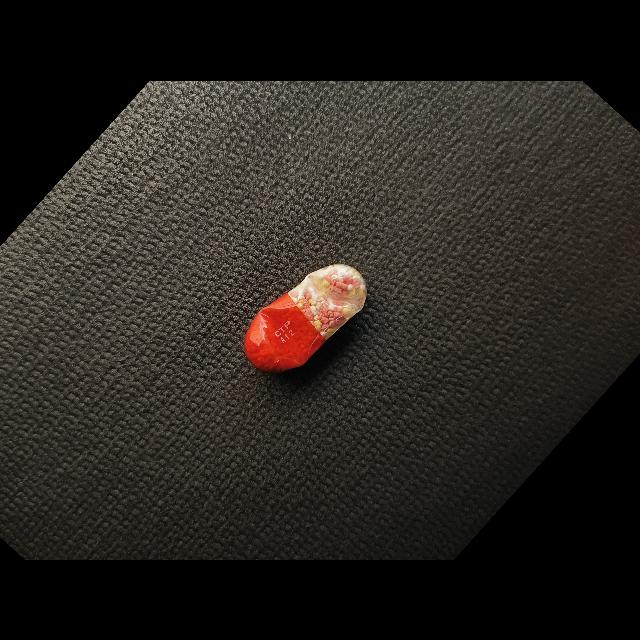Defective Capsule: (244, 263, 367, 372)
